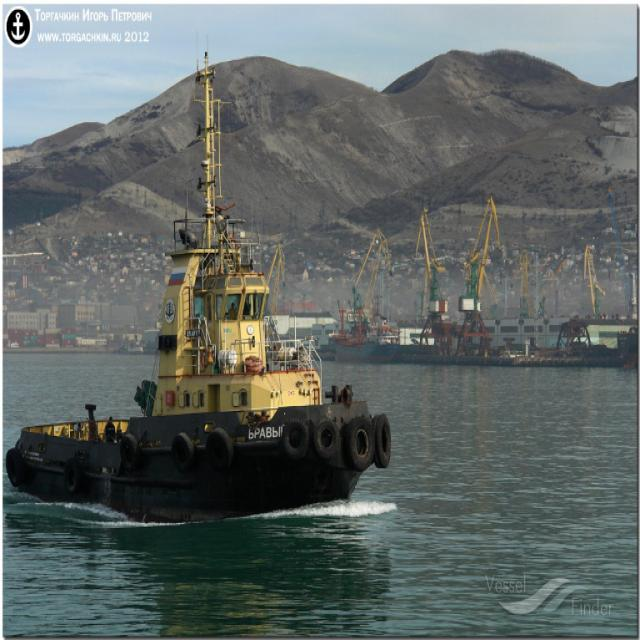tugboat: (7, 104, 391, 523)
